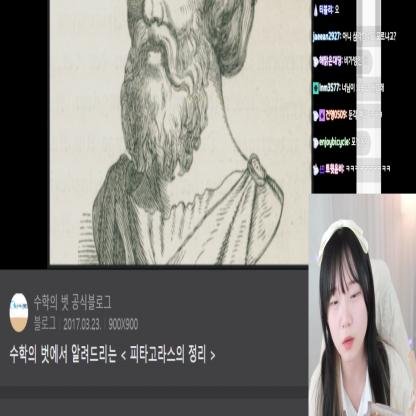streamer: (308, 218, 416, 416)
